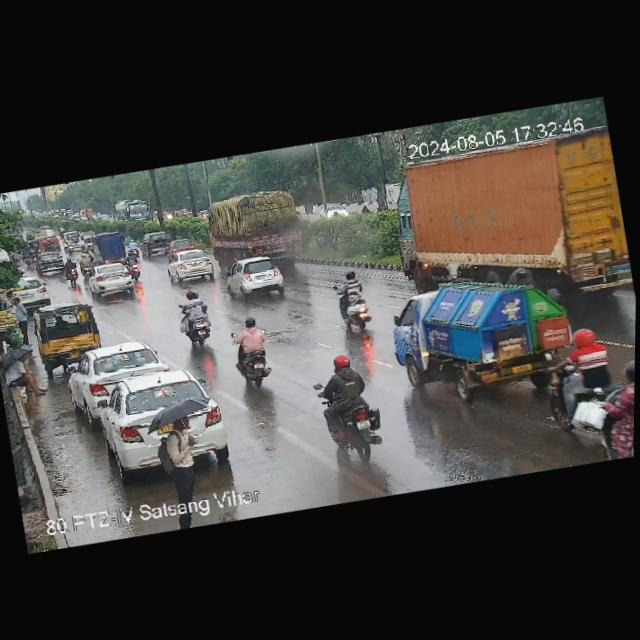bus: (110, 193, 156, 228)
car: (98, 361, 224, 478), (66, 340, 173, 419), (33, 298, 109, 366), (228, 252, 290, 303), (163, 244, 217, 285), (85, 260, 136, 299), (3, 272, 53, 310), (140, 225, 179, 254), (318, 198, 353, 222)
motorcycle: (525, 325, 623, 431), (313, 356, 390, 464), (588, 355, 635, 454), (328, 266, 378, 332), (233, 312, 273, 388), (176, 284, 220, 348), (9, 294, 33, 343)
person: (158, 407, 209, 528), (1, 348, 44, 404)
truck: (399, 127, 635, 319), (389, 270, 562, 394), (212, 185, 309, 274)
